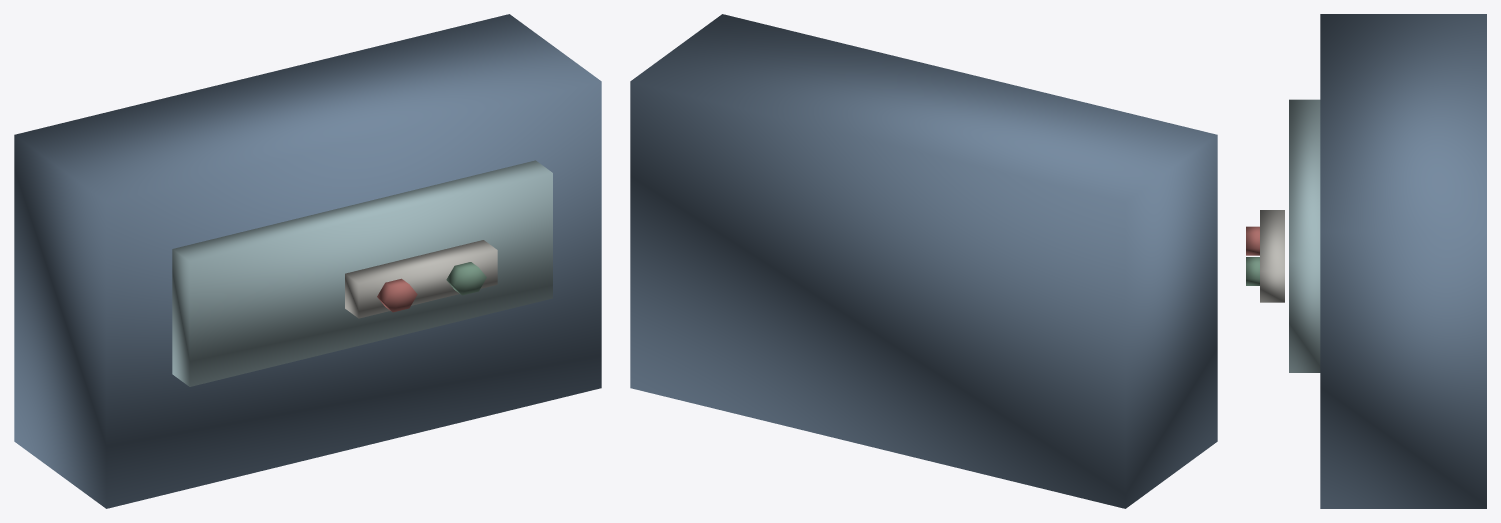
The model's file is price_checker__wide.glb.
3 views of the same model, side by side, from view 1: azimuth 30°, elevation 25°; view 2: azimuth 150°, elevation 25°; view 3: azimuth 270°, elevation 25° (orthographic). The views are drawn at different scales.
Parts seen in each view (by area): view 1: world; view 2: world; view 3: world.
Part boxes in pixels (left/top/right/bottom): world: left=14, top=14, right=601, bottom=508; world: left=630, top=14, right=1217, bottom=508; world: left=1246, top=14, right=1486, bottom=508.
Size of the model in its own units: 0.372 by 0.22 by 0.1735.
